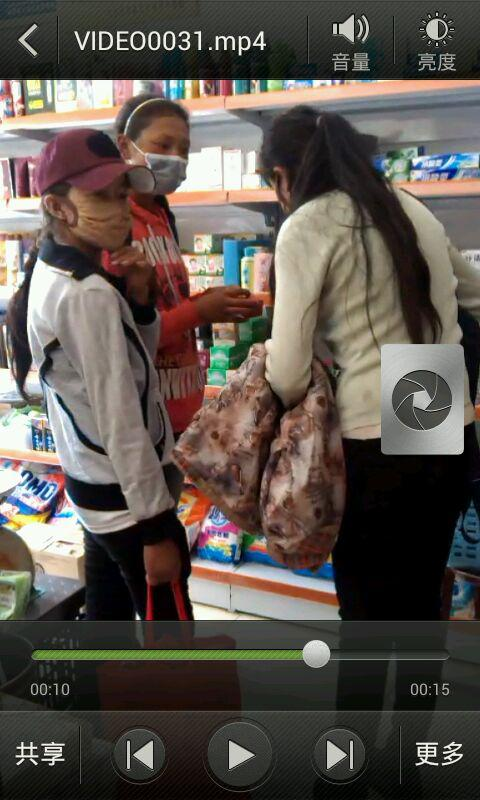OK: (73, 182, 136, 245), (134, 137, 192, 194)
